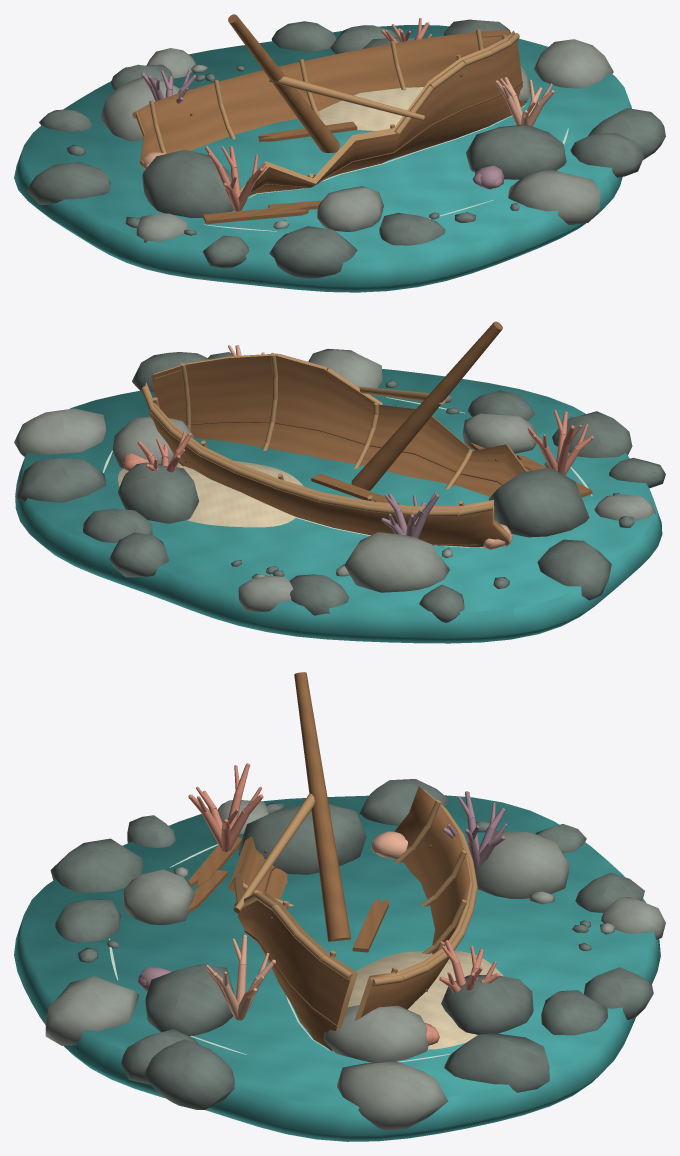
The model's file is shipwreck-reef-v5.glb.
The picture shows the model from 3 angles, top to bottom: view 1: azimuth 30°, elevation 25°; view 2: azimuth 150°, elevation 25°; view 3: azimuth 270°, elevation 25°; orthographic projection. The views are drawn at different scales.
Parts seen in each view (by area): view 1: Shipwreck | collectible export; view 2: Shipwreck | collectible export; view 3: Shipwreck | collectible export.
Part boxes in pixels (x1,y1,x2,y2): Shipwreck | collectible export: [14, 14, 665, 292]; Shipwreck | collectible export: [14, 321, 665, 643]; Shipwreck | collectible export: [14, 672, 665, 1141].
Bounding box in the file's own units: 1.72 × 0.6038 × 1.45.
11 materials, 5 textured.
